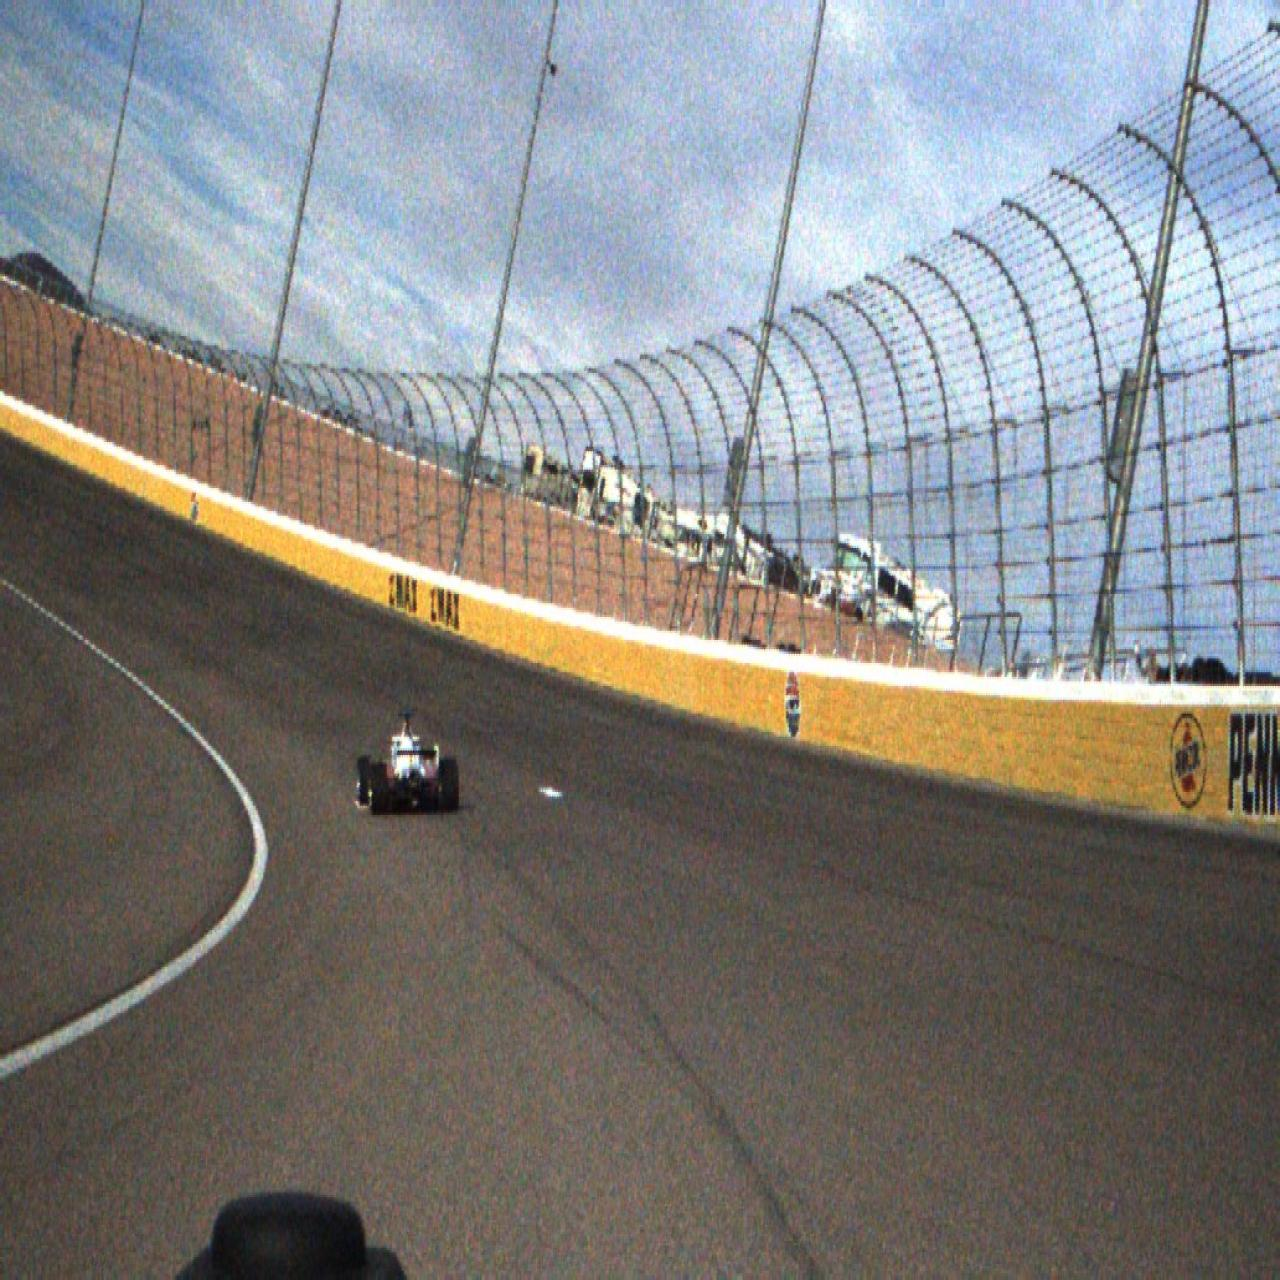AV: (358, 708, 459, 816)
Wheel: (441, 758, 459, 812), (372, 763, 388, 816), (358, 756, 370, 806)
